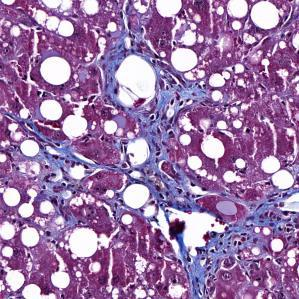fibrosis: (107, 28, 201, 108), (144, 164, 232, 223), (192, 234, 255, 296), (111, 107, 187, 146)
